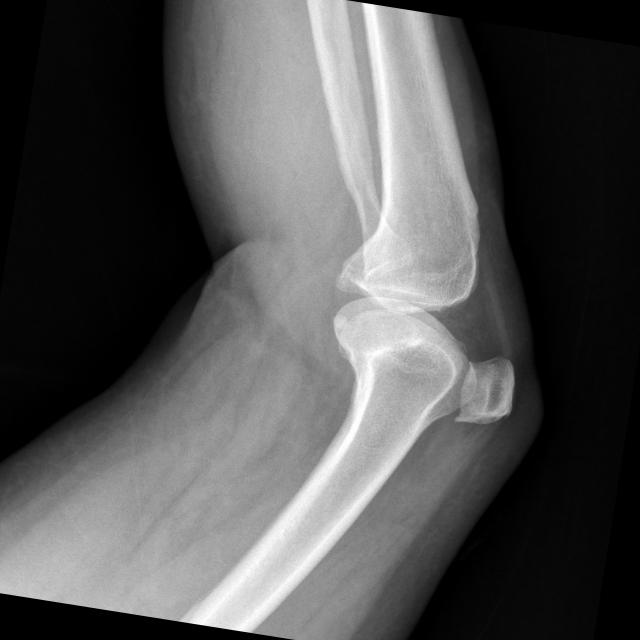Knee: (318, 229, 540, 436)
